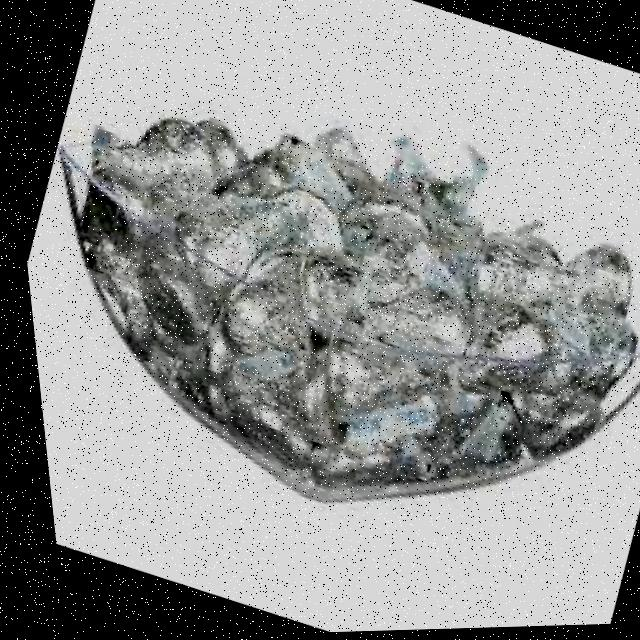kisses: (321, 138, 455, 277), (151, 175, 297, 302), (441, 290, 563, 420), (514, 224, 640, 341), (296, 334, 417, 445), (207, 287, 328, 396), (116, 251, 234, 361), (94, 113, 220, 203), (372, 287, 469, 372)
